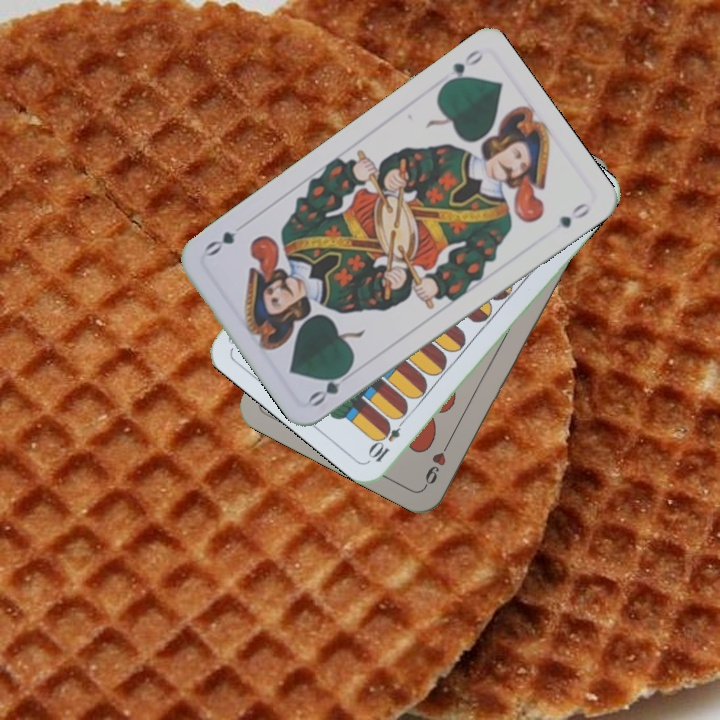E10: (365, 412, 410, 465)
GO: (305, 363, 358, 410), (437, 45, 486, 91)
H9: (420, 435, 454, 490)
